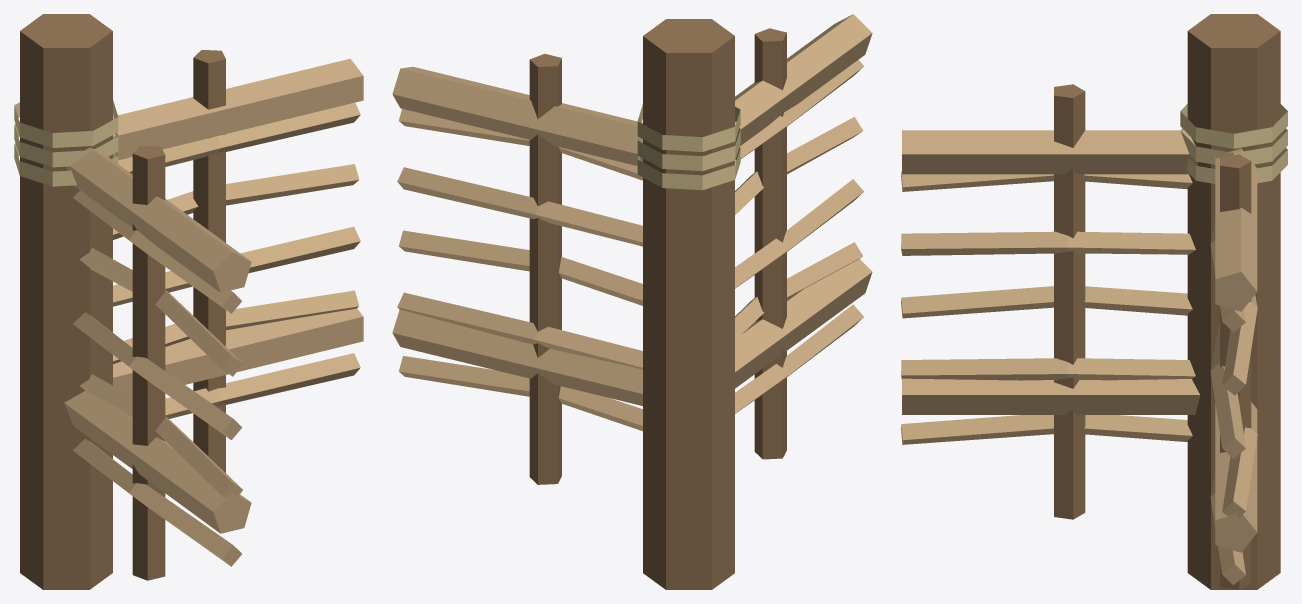
The model's file is pen_fence_06.glb.
3 views of the same model, side by side, from view 1: azimuth 30°, elevation 25°; view 2: azimuth 150°, elevation 25°; view 3: azimuth 270°, elevation 25° (orthographic).
Parts seen in each view (by area): view 1: pen_fence_06; view 2: pen_fence_06; view 3: pen_fence_06.
Part boxes in pixels (bbox=[...]): pen_fence_06: bbox=[14, 14, 363, 589]; pen_fence_06: bbox=[392, 14, 872, 589]; pen_fence_06: bbox=[901, 14, 1287, 589].
Size of the model in its own units: 0.5823 by 0.9 by 0.5823.
